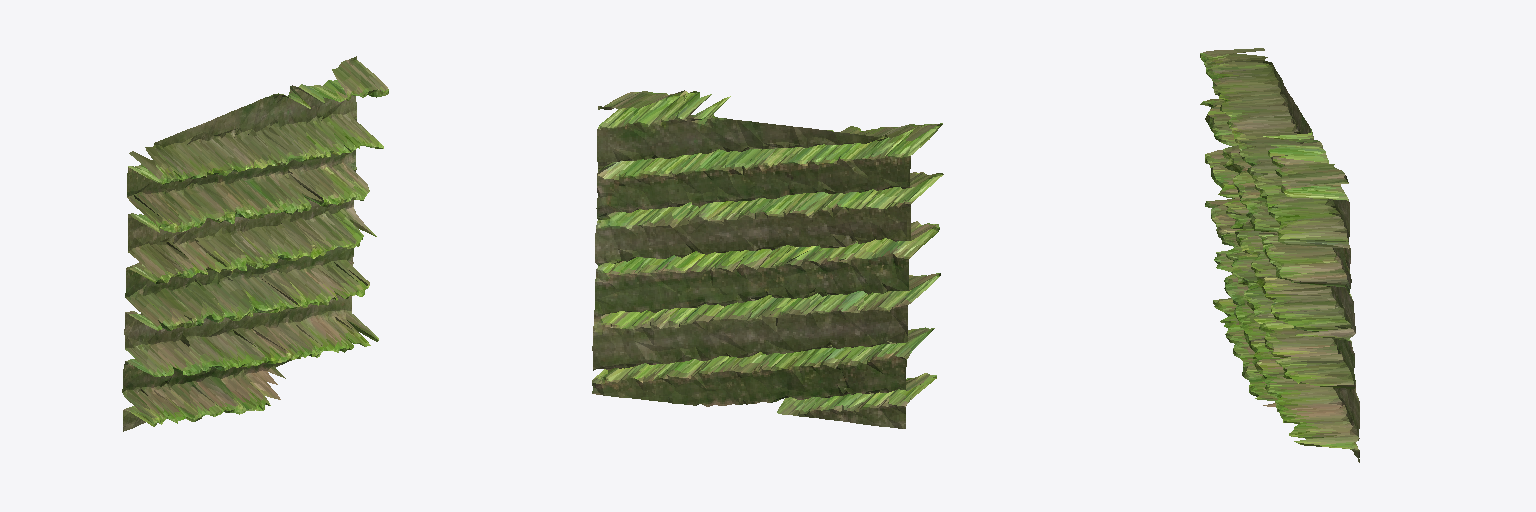
3 views of the same model, side by side, from view 1: azimuth 30°, elevation 25°; view 2: azimuth 150°, elevation 25°; view 3: azimuth 270°, elevation 25° (orthographic).
Visible parts, largest first — view 1: grp1; view 2: grp1; view 3: grp1.
Part boxes in pixels (left/top/right/bottom): grp1: left=122, top=56, right=388, bottom=431; grp1: left=592, top=90, right=943, bottom=428; grp1: left=1200, top=48, right=1359, bottom=462.
Bounding box in the file's own units: 10 × 10 × 5.13.
Materials: 1 (1 with a texture image).